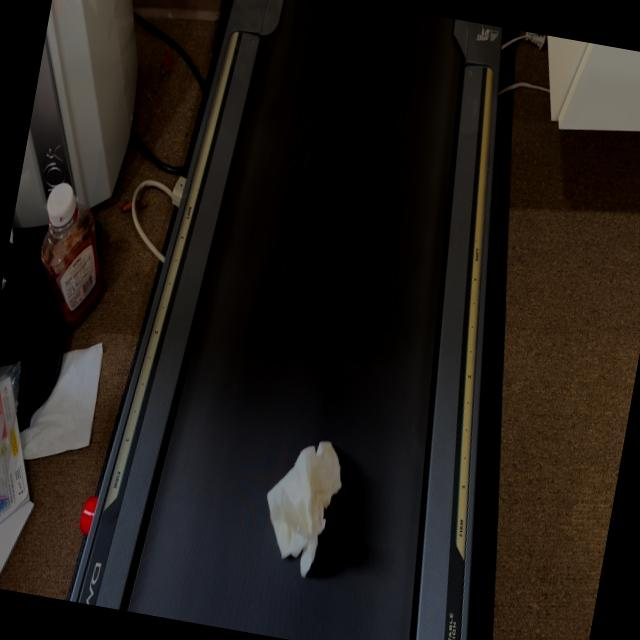Recycle: (253, 430, 349, 582)
